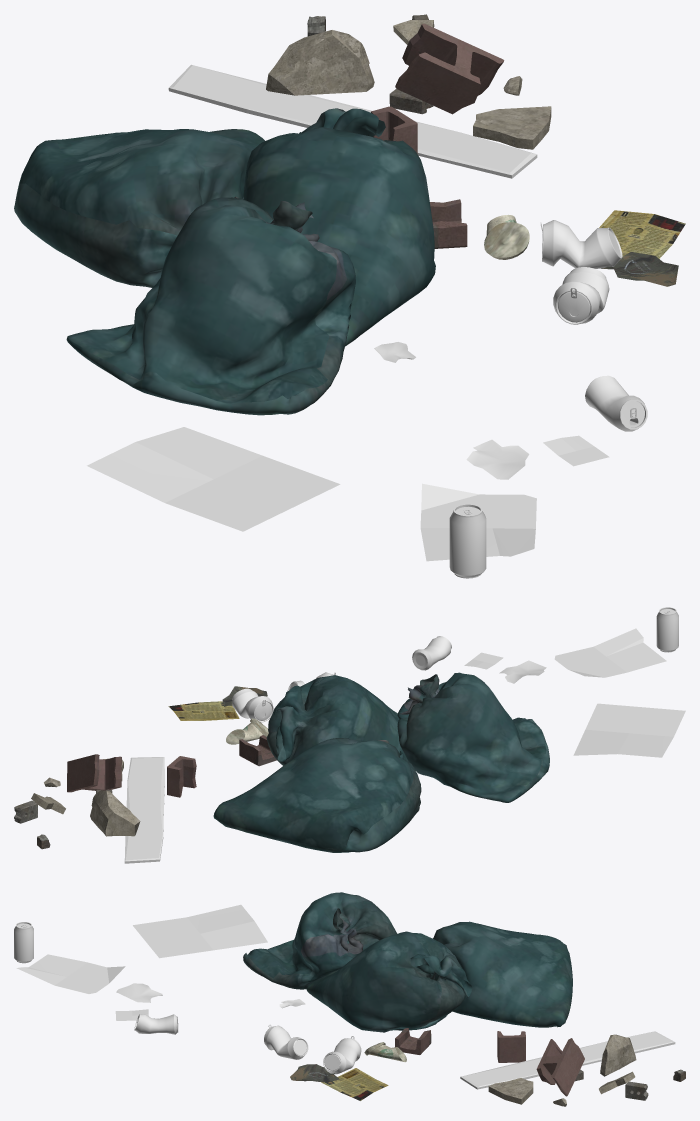
Rendered from TrashA.fbx.
The picture shows the model from 3 angles, top to bottom: view 1: azimuth 30°, elevation 25°; view 2: azimuth 150°, elevation 25°; view 3: azimuth 270°, elevation 25°; orthographic projection. The views are drawn at different scales.
Visible parts, largest first — view 1: TrashA; view 2: TrashA; view 3: TrashA.
Part boxes in pixels (x1,y1,x2,y2): TrashA: (14, 14, 685, 578); TrashA: (14, 607, 685, 863); TrashA: (14, 892, 685, 1106).
Bounding box in the file's own units: 2.14 × 0.4038 × 3.09.
